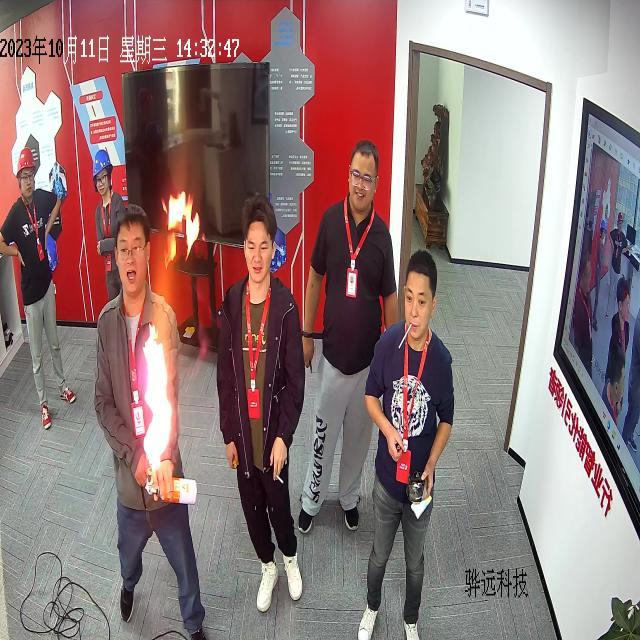Fire: (140, 322, 173, 473), (161, 190, 197, 262)
